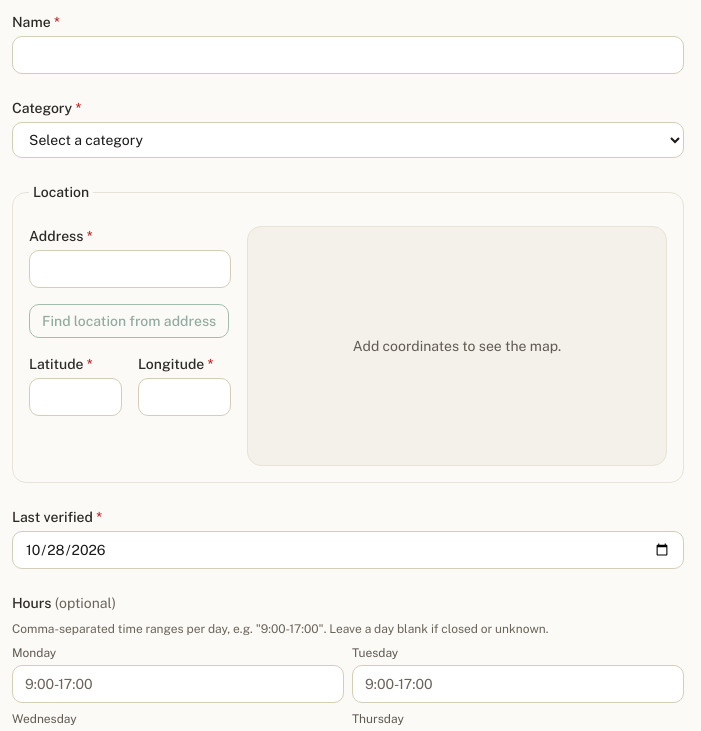
it: AddVenueForm — geocode (Find location from address) › a non-200 response shows the fallback message instead of crashing
In the field labelled "Address *": (130, 269) [29, 250, 231, 288], type "123 Main St, Pueblo, CO"
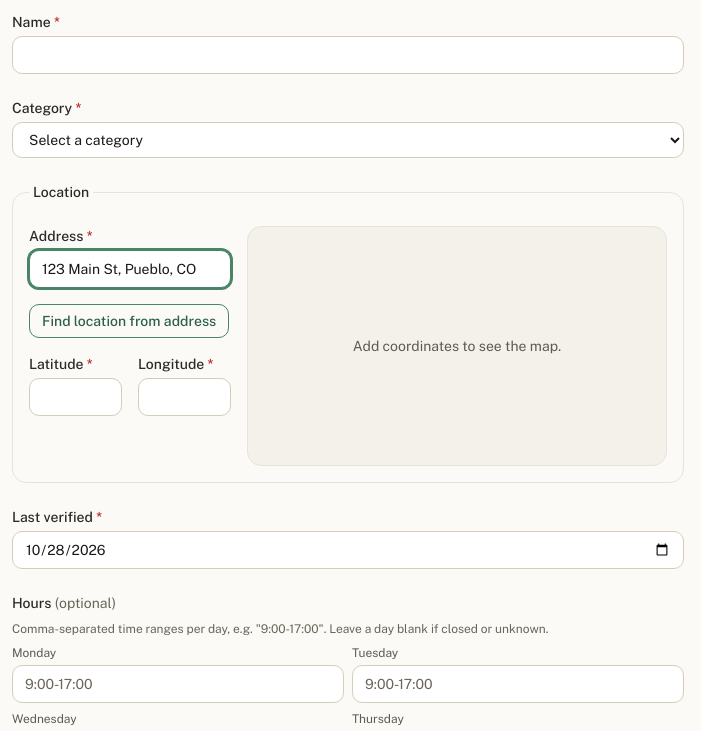
Click the button "Find location from address": (129, 321) [29, 304, 229, 338]
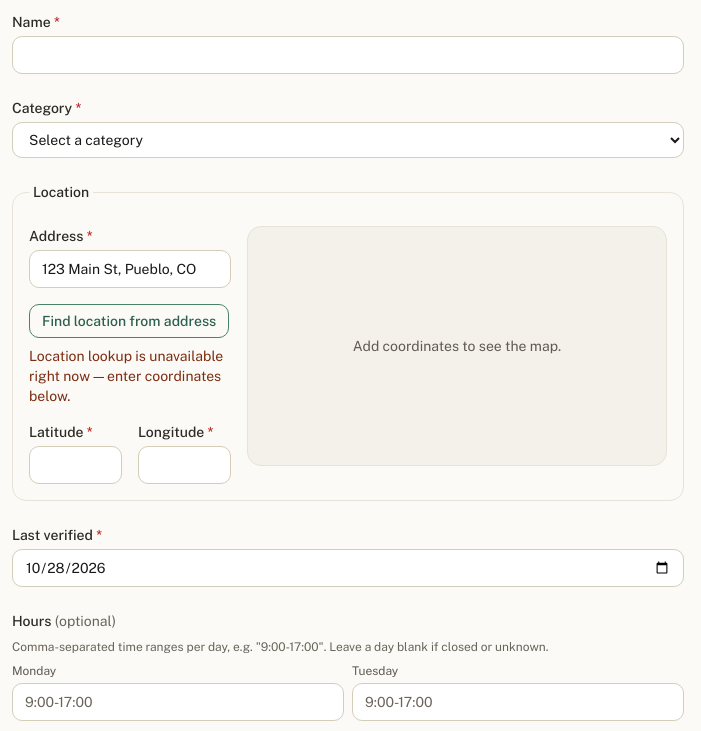
expect the text "Location lookup is unavailable right now" is shown: met, box [29, 348, 223, 404]
